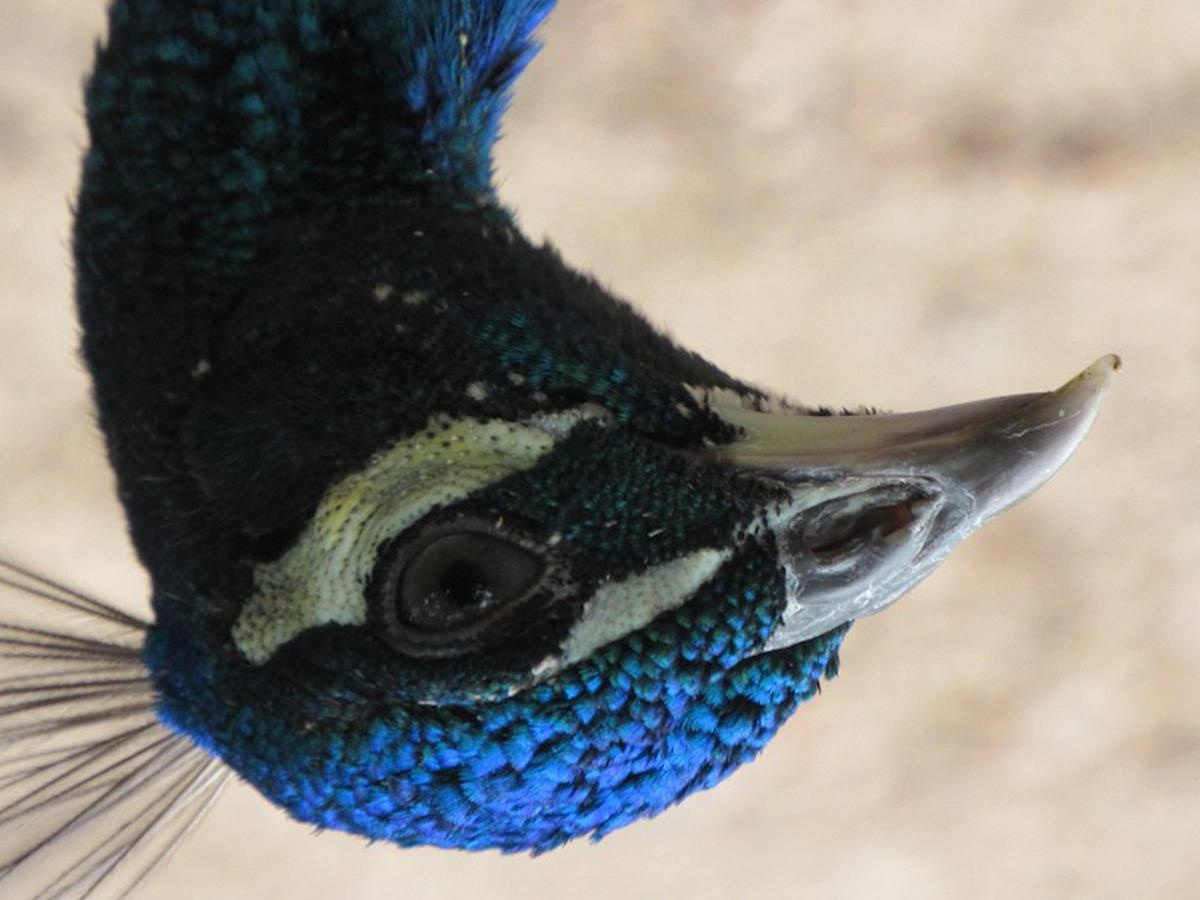peacock: (1, 1, 1091, 835)
